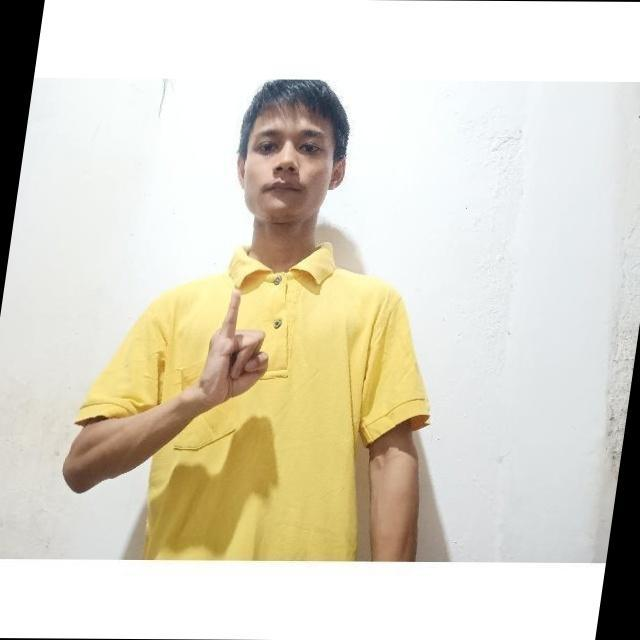I: (197, 280, 278, 424)
